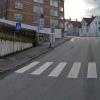crosswalks: (11, 59, 100, 80)
